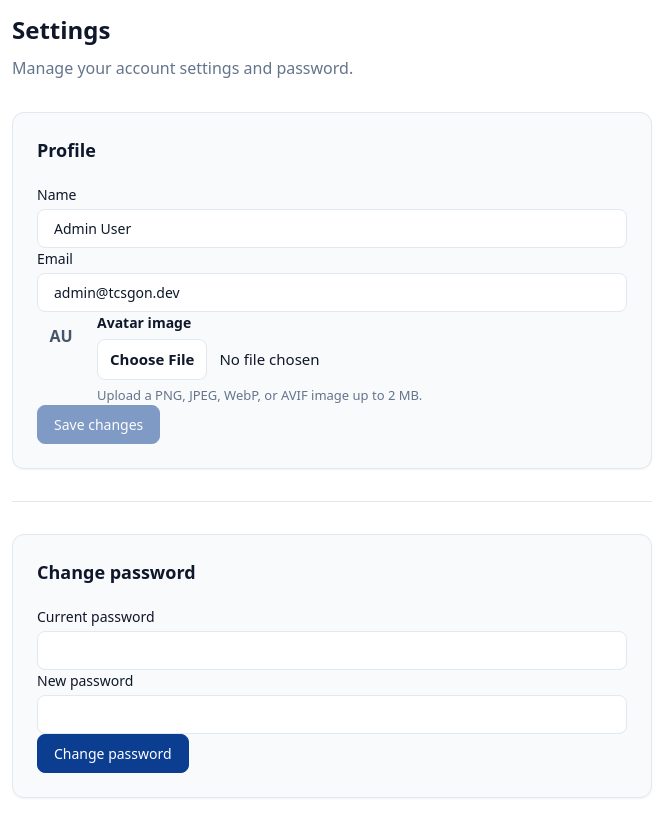
SettingsPage › shows error when current password is wrong
Step 1. Type "wrong-password" into the password field labelled "Current password" → [332, 650], box x1=37 y1=631 x2=627 y2=670
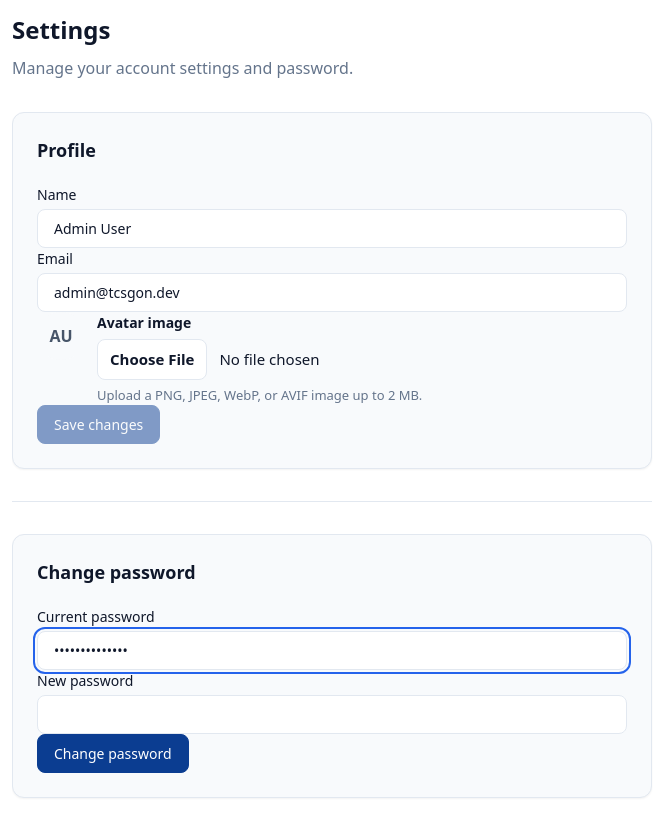
Step 2. Type "new-password-123!" into the password field labelled "New password" → [332, 714], box x1=37 y1=695 x2=627 y2=734
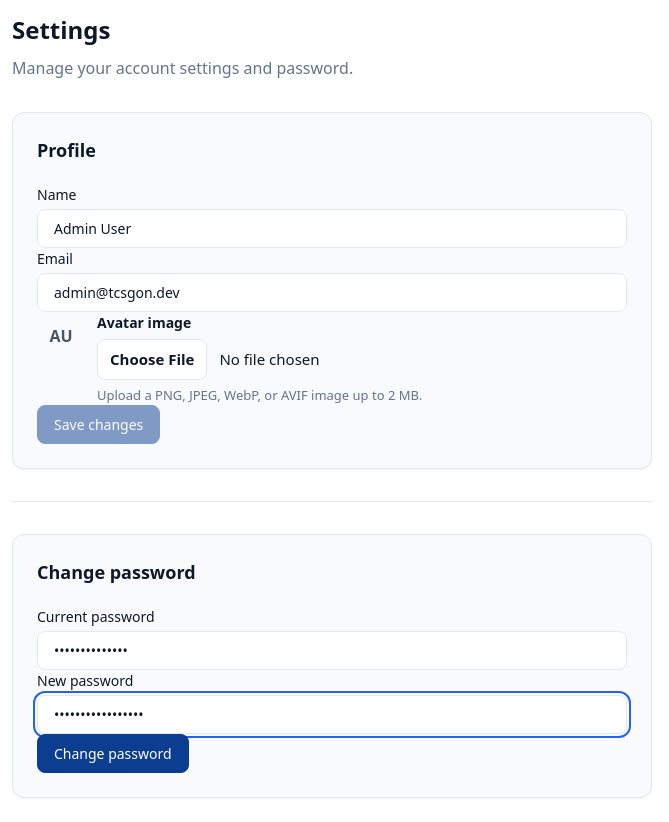
Step 3. Click the button "Change password" → [113, 754], box x1=37 y1=734 x2=189 y2=773
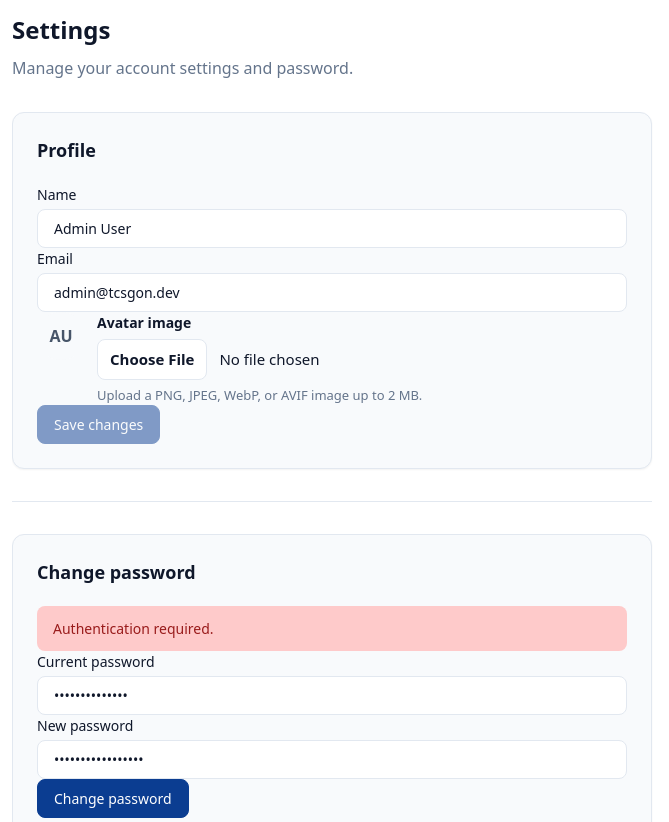
Now the message shows "Authentication required", box x1=53 y1=619 x2=214 y2=638
